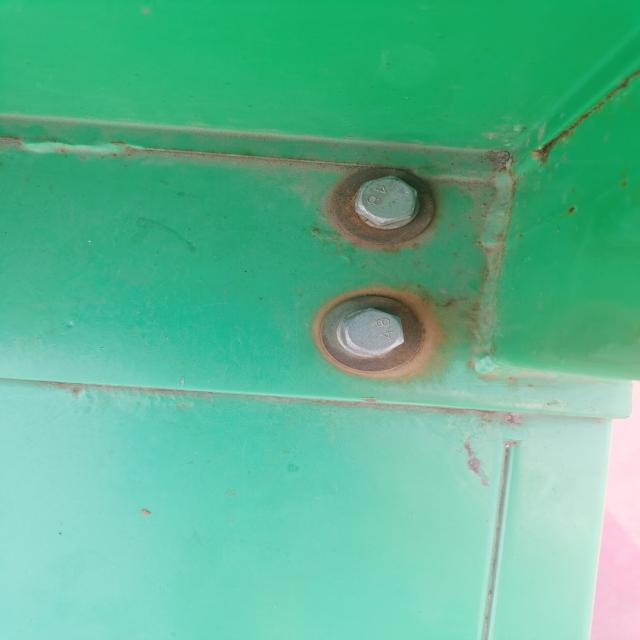bolt head: (350, 172, 422, 229), (338, 305, 407, 360)
